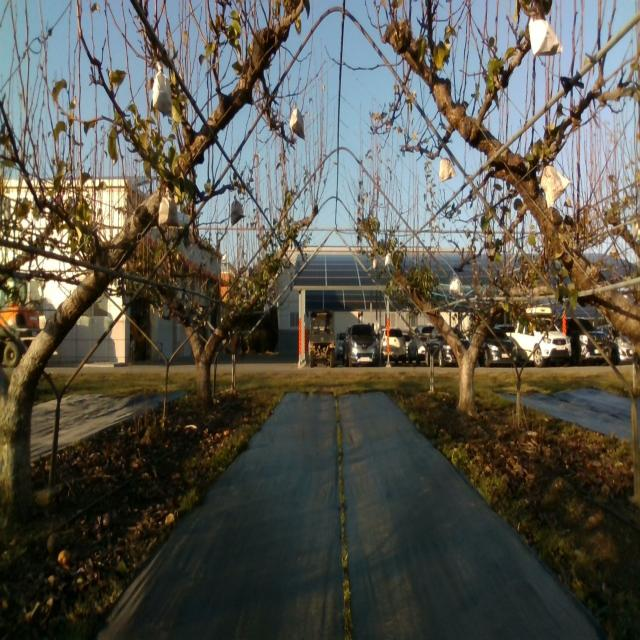pearbags: (526, 13, 562, 58), (540, 164, 570, 208), (151, 60, 173, 115), (158, 190, 179, 226), (230, 195, 246, 228), (290, 104, 305, 139), (438, 155, 456, 184), (449, 270, 461, 296)
